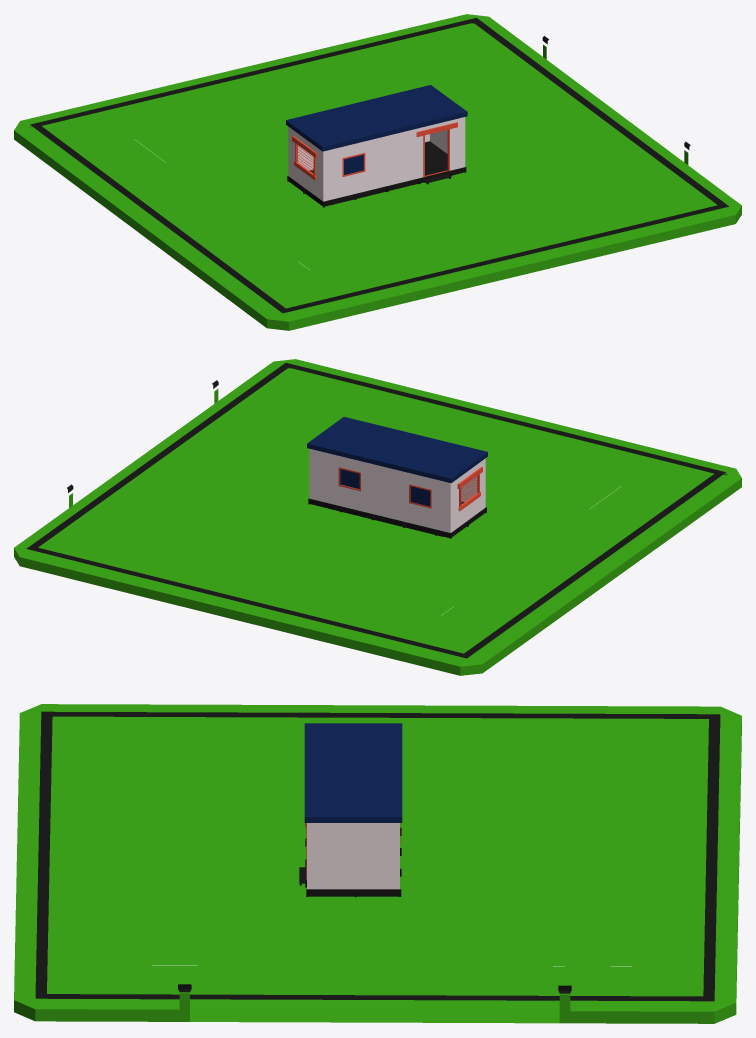
File: farm 1.fbx
3 renders of one model, top to bottom at view 1: azimuth 30°, elevation 25°; view 2: azimuth 150°, elevation 25°; view 3: azimuth 270°, elevation 25°, orthographic. The views are drawn at different scales.
Parts seen in each view (by area): view 1: FloorTile, FloorTileBoundry, Building_Build_0.001_Middle, Building_Build_0.002_Top, Building_Build_0.003_Bottom, Building_Build_0_Frames, Building_Build_0.012_Grill; view 2: FloorTile, FloorTileBoundry, Building_Build_0.001_Middle, Building_Build_0.002_Top, Building_Build_0.003_Bottom, Building_Build_0.004_Windows, Building_Build_0.012_Grill; view 3: FloorTile, FloorTileBoundry, Building_Build_0.002_Top, Building_Build_0.001_Middle, Building_Build_0.003_Bottom.
Part boxes in pixels (bbox=[...]): FloorTile: bbox=[14, 14, 741, 330]; FloorTileBoundry: bbox=[30, 18, 728, 313]; Building_Build_0.001_Middle: bbox=[288, 117, 465, 201]; Building_Build_0.002_Top: bbox=[286, 85, 467, 151]; Building_Build_0.003_Bottom: bbox=[287, 141, 466, 207]; Building_Build_0_Frames: bbox=[342, 122, 457, 177]; Building_Build_0.012_Grill: bbox=[292, 136, 317, 180]; FloorTile: bbox=[14, 359, 741, 675]; FloorTileBoundry: bbox=[26, 363, 725, 658]; Building_Build_0.001_Middle: bbox=[309, 448, 485, 532]; Building_Build_0.002_Top: bbox=[307, 417, 487, 483]; Building_Build_0.003_Bottom: bbox=[308, 498, 486, 538]; Building_Build_0.004_Windows: bbox=[340, 469, 430, 506]; Building_Build_0.012_Grill: bbox=[457, 467, 482, 510]; FloorTile: bbox=[14, 704, 741, 1023]; FloorTileBoundry: bbox=[35, 711, 720, 1001]; Building_Build_0.002_Top: bbox=[304, 723, 402, 822]; Building_Build_0.001_Middle: bbox=[307, 823, 399, 889]; Building_Build_0.003_Bottom: bbox=[299, 823, 401, 897].
Size of the model in its own units: 409487 by 57891 by 408556.
